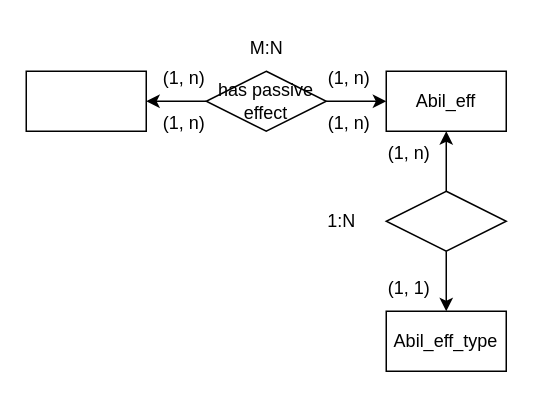
Some shapes in this 533 by 398 pixel diagram are drawn without their labels. Here are the shapes that lost their labels. From the top down, the centre of each, then its label:
At point (85, 100): "Abil".
At point (445, 220): "can affect overworld".
